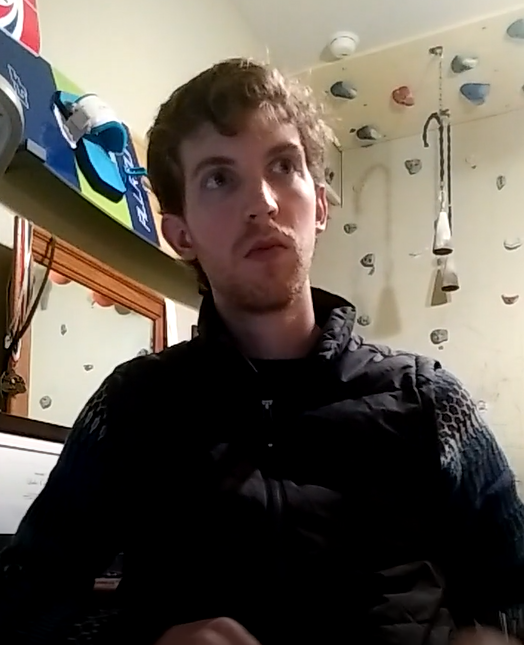Not Sleeping: (190, 145, 313, 200)
